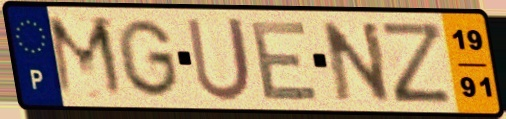E: (248, 18, 323, 103)
G: (113, 16, 183, 100)
M: (42, 13, 131, 102)
N: (318, 19, 395, 105)
U: (183, 15, 255, 105)
Z: (377, 19, 455, 106)
